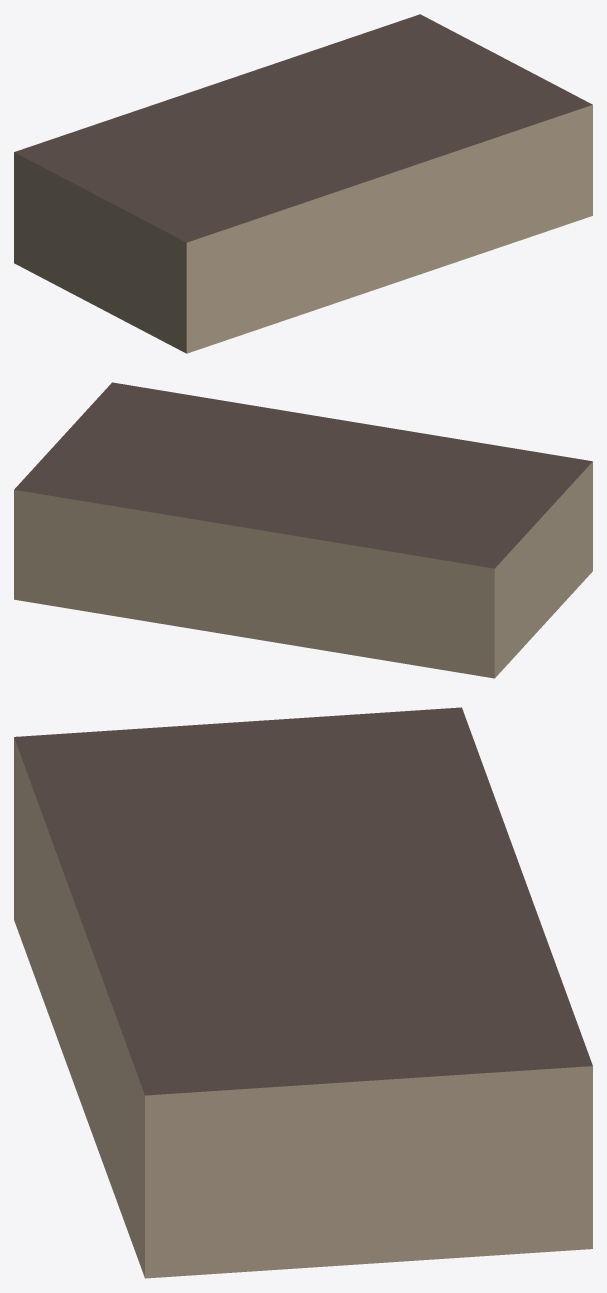
3 renders of one model, top to bottom at view 1: azimuth 30°, elevation 25°; view 2: azimuth 150°, elevation 25°; view 3: azimuth 270°, elevation 25°, orthographic. The views are drawn at different scales.
Parts seen in each view (by area): view 1: HP-w859488635; view 2: HP-w859488635; view 3: HP-w859488635.
Boxes of the visible parts, x1,y1,x2,y2 form: HP-w859488635: (14, 14, 592, 353); HP-w859488635: (14, 382, 592, 678); HP-w859488635: (14, 707, 592, 1278).
Bounding box in the file's own units: 40.94 × 9 × 25.81.
